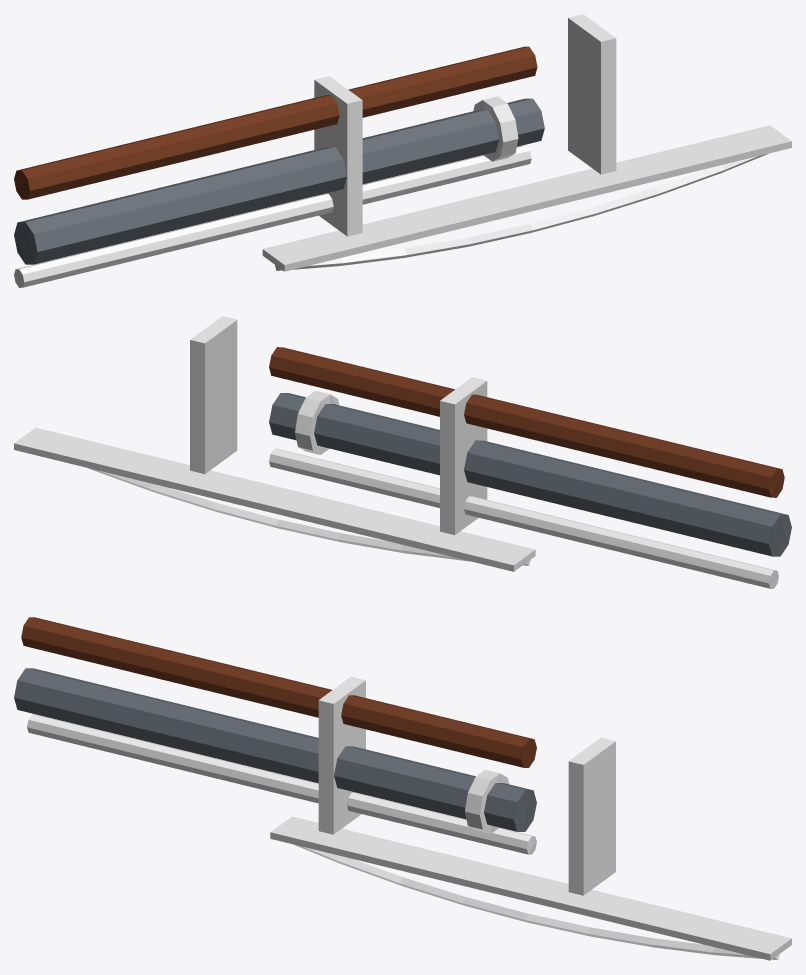
The model's file is Pipe_Wall_Run_4m.fbx.
3 renders of one model, top to bottom at view 1: azimuth 30°, elevation 25°; view 2: azimuth 150°, elevation 25°; view 3: azimuth 330°, elevation 25°, orthographic.
Parts seen in each view (by area): view 1: Pipe_Wall_Run_4m; view 2: Pipe_Wall_Run_4m; view 3: Pipe_Wall_Run_4m.
Part boxes in pixels (x1,y1,x2,y2): Pipe_Wall_Run_4m: [14, 14, 791, 287]; Pipe_Wall_Run_4m: [14, 316, 791, 588]; Pipe_Wall_Run_4m: [14, 617, 791, 960].
Size of the model in its own units: 6.01 by 1.42 by 0.501.
